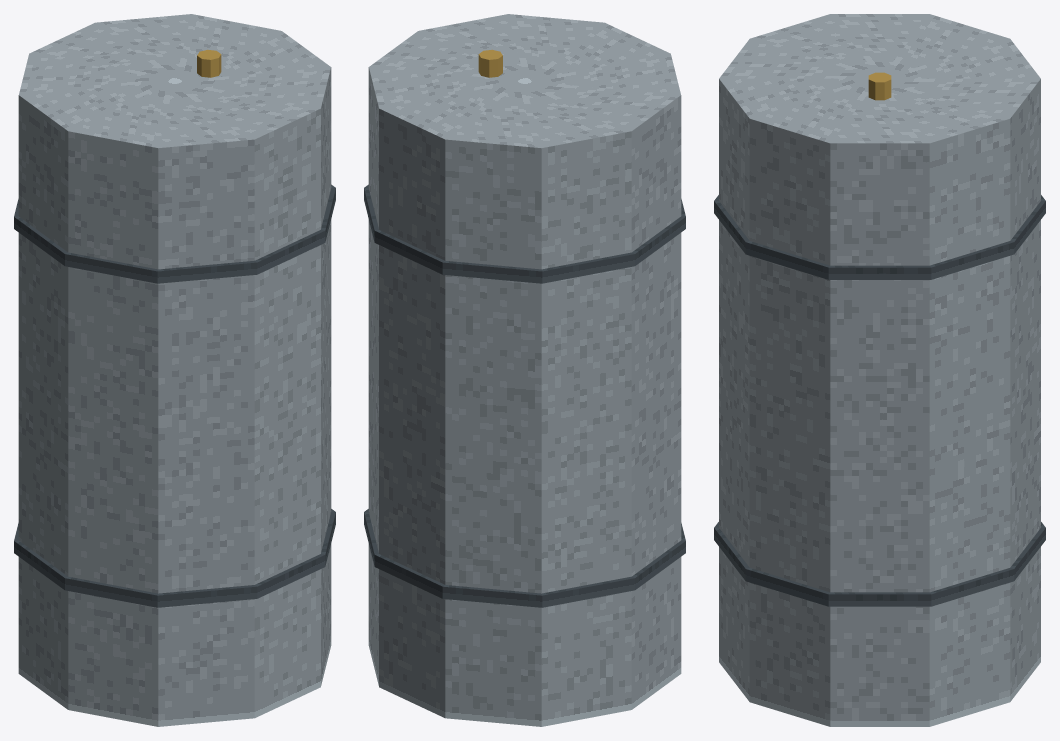
The model's file is f_storage_tank.glb.
3 views of the same model, side by side, from view 1: azimuth 30°, elevation 25°; view 2: azimuth 150°, elevation 25°; view 3: azimuth 270°, elevation 25° (orthographic).
Parts seen in each view (by area): view 1: block_tank-shell, block_reinforcing-band-0.4268, block_reinforcing-band-1.5132, block_valve; view 2: block_tank-shell, block_reinforcing-band-0.4268, block_reinforcing-band-1.5132, block_valve; view 3: block_tank-shell, block_reinforcing-band-1.5132, block_reinforcing-band-0.4268, block_valve.
Part boxes in pixels (<box>): block_tank-shell: <box>18,14,331,726</box>; block_reinforcing-band-0.4268: <box>14,509,335,607</box>; block_reinforcing-band-1.5132: <box>14,184,335,283</box>; block_valve: <box>197,49,221,77</box>; block_tank-shell: <box>368,14,681,726</box>; block_reinforcing-band-0.4268: <box>364,509,685,607</box>; block_reinforcing-band-1.5132: <box>364,184,685,283</box>; block_valve: <box>478,49,502,77</box>; block_tank-shell: <box>719,14,1040,726</box>; block_reinforcing-band-1.5132: <box>714,195,1045,279</box>; block_reinforcing-band-0.4268: <box>714,522,1045,606</box>; block_valve: <box>868,72,891,100</box>.
Size of the model in its own units: 0.9511 by 2 by 1.
1 material, 1 textured.
